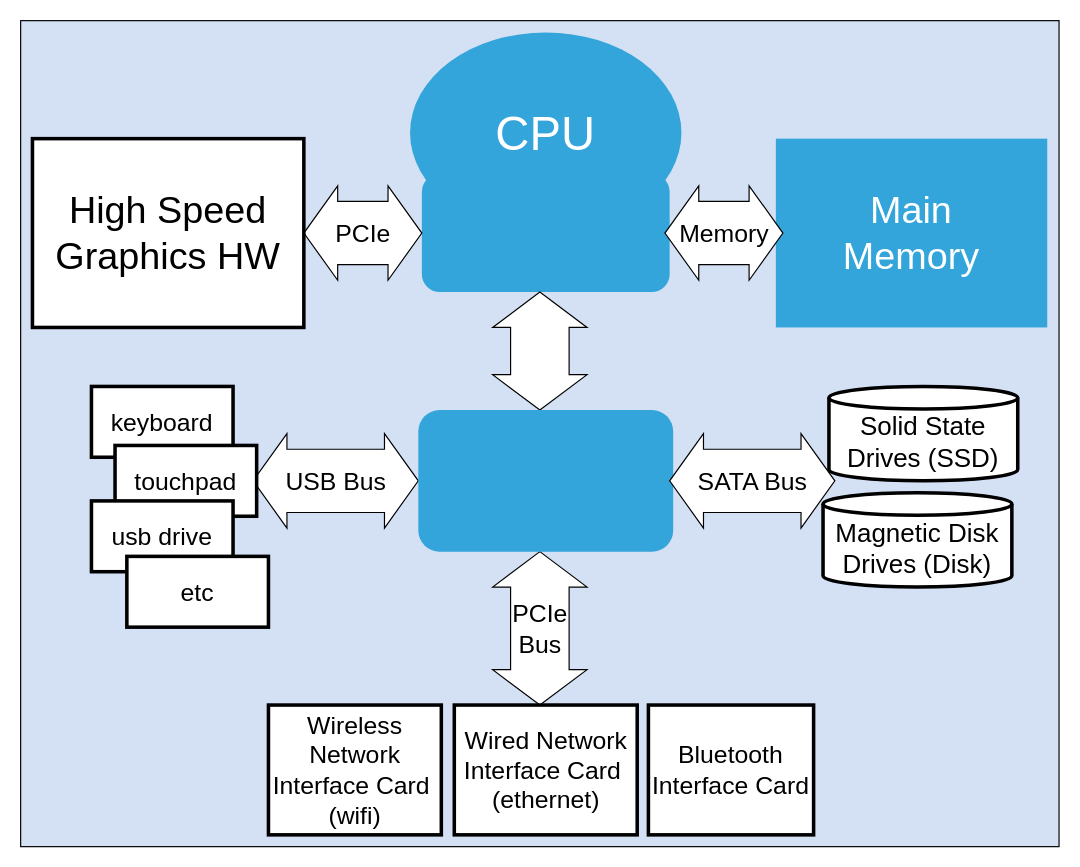
This 1080x867 diagram has some shape labels left out. The centre of each missing label's shape, as x and y in pixels:
"High Speed Bus Controller" goes at [545,232].
"Slower Speed I/O Bus Controller" goes at [545,480].
